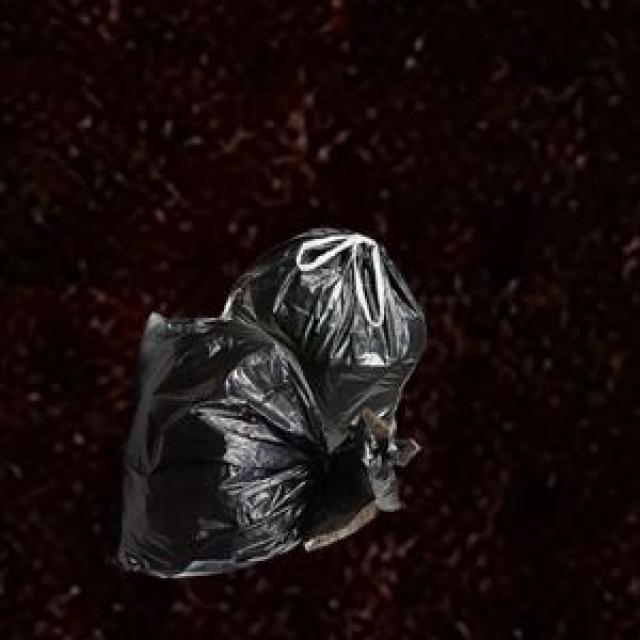Trashbag: (117, 307, 327, 582), (295, 239, 427, 429)
